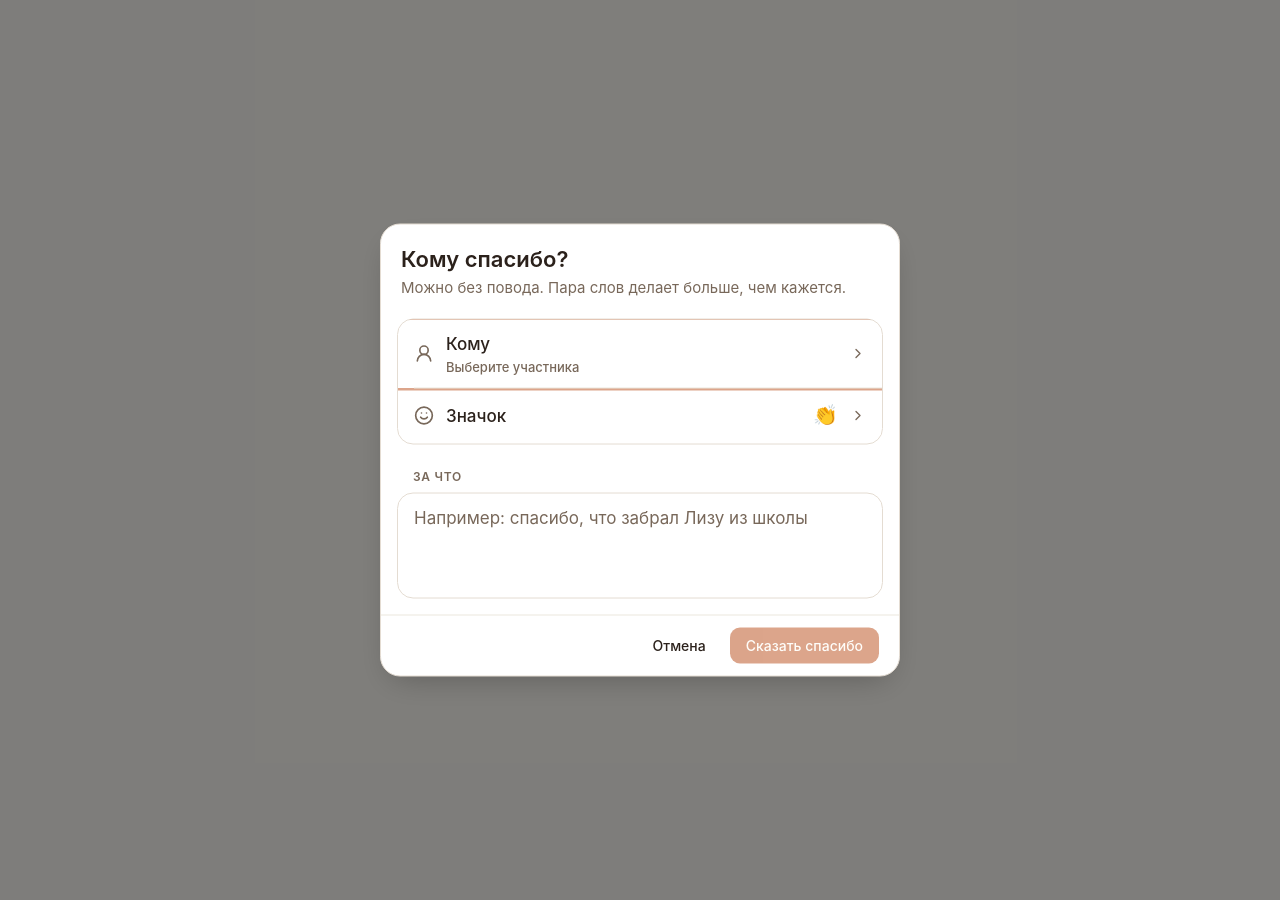
Test: «Спасибо» › offers only active members as recipients, and never yourself
This screenshot has width=1280, height=900.
Click the button "Кому Выберите участника".
click(468, 344)  # box x1=398 y1=320 x2=882 y2=388
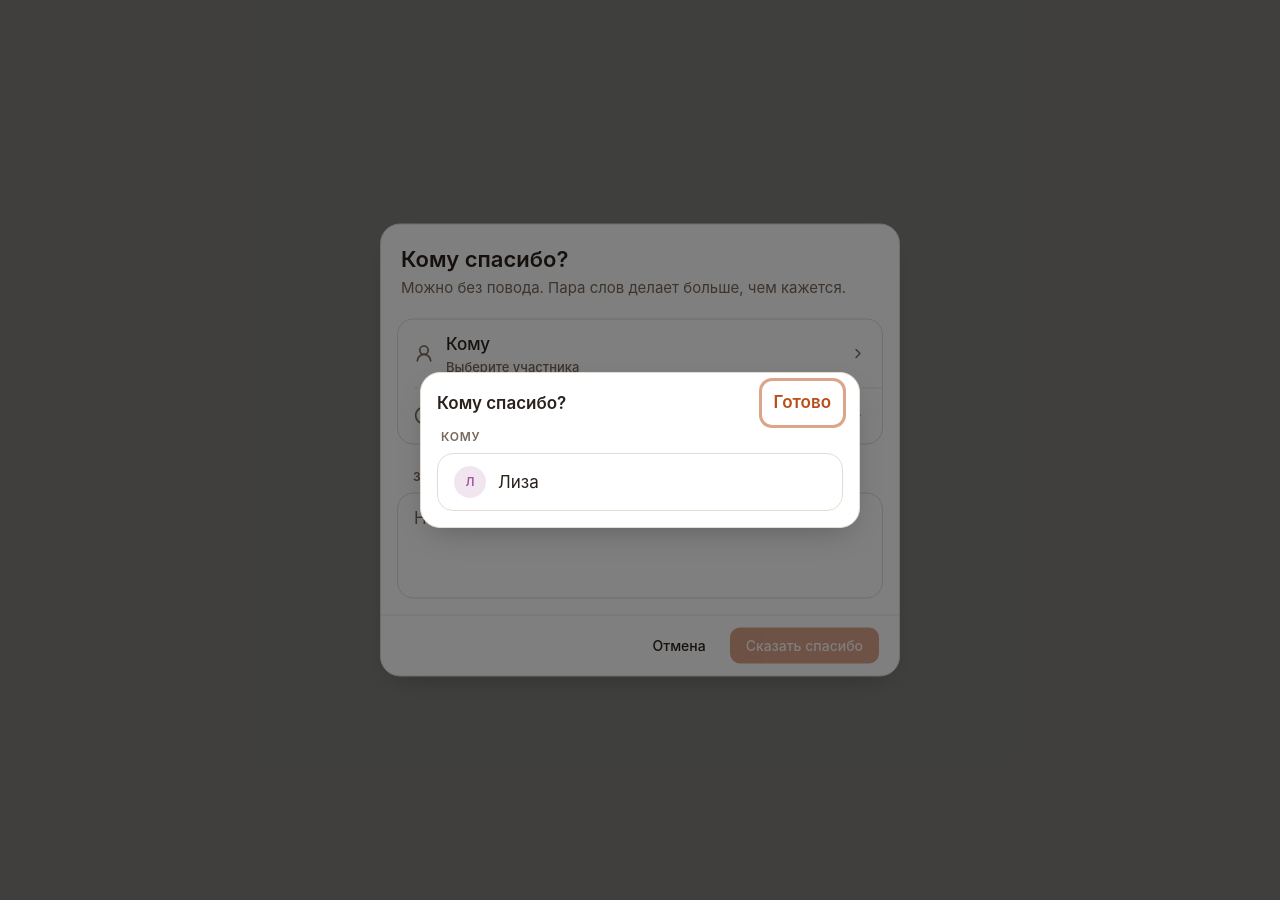
Expected: the radio button labelled "Лиза" is shown, x1=438 y1=454 x2=842 y2=510
